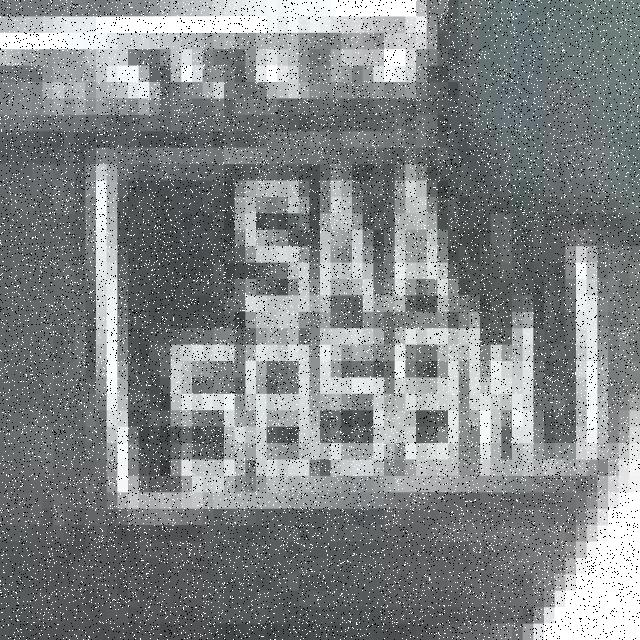licenseplate: (85, 140, 612, 534)
